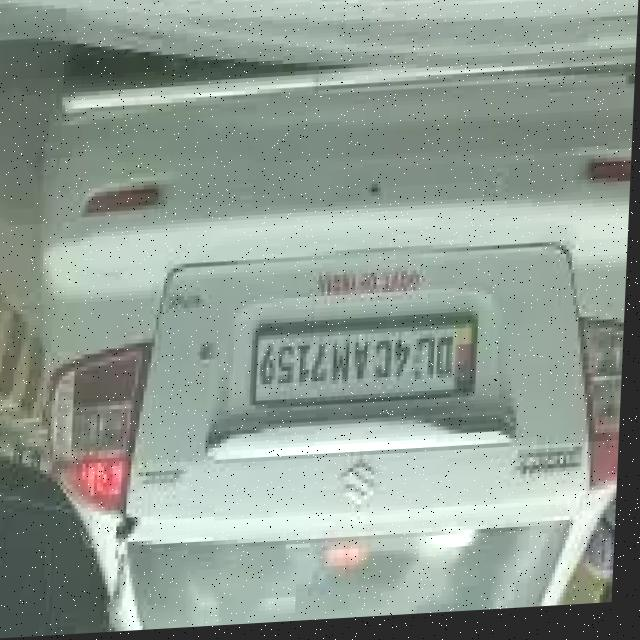plate: (250, 321, 485, 421)
